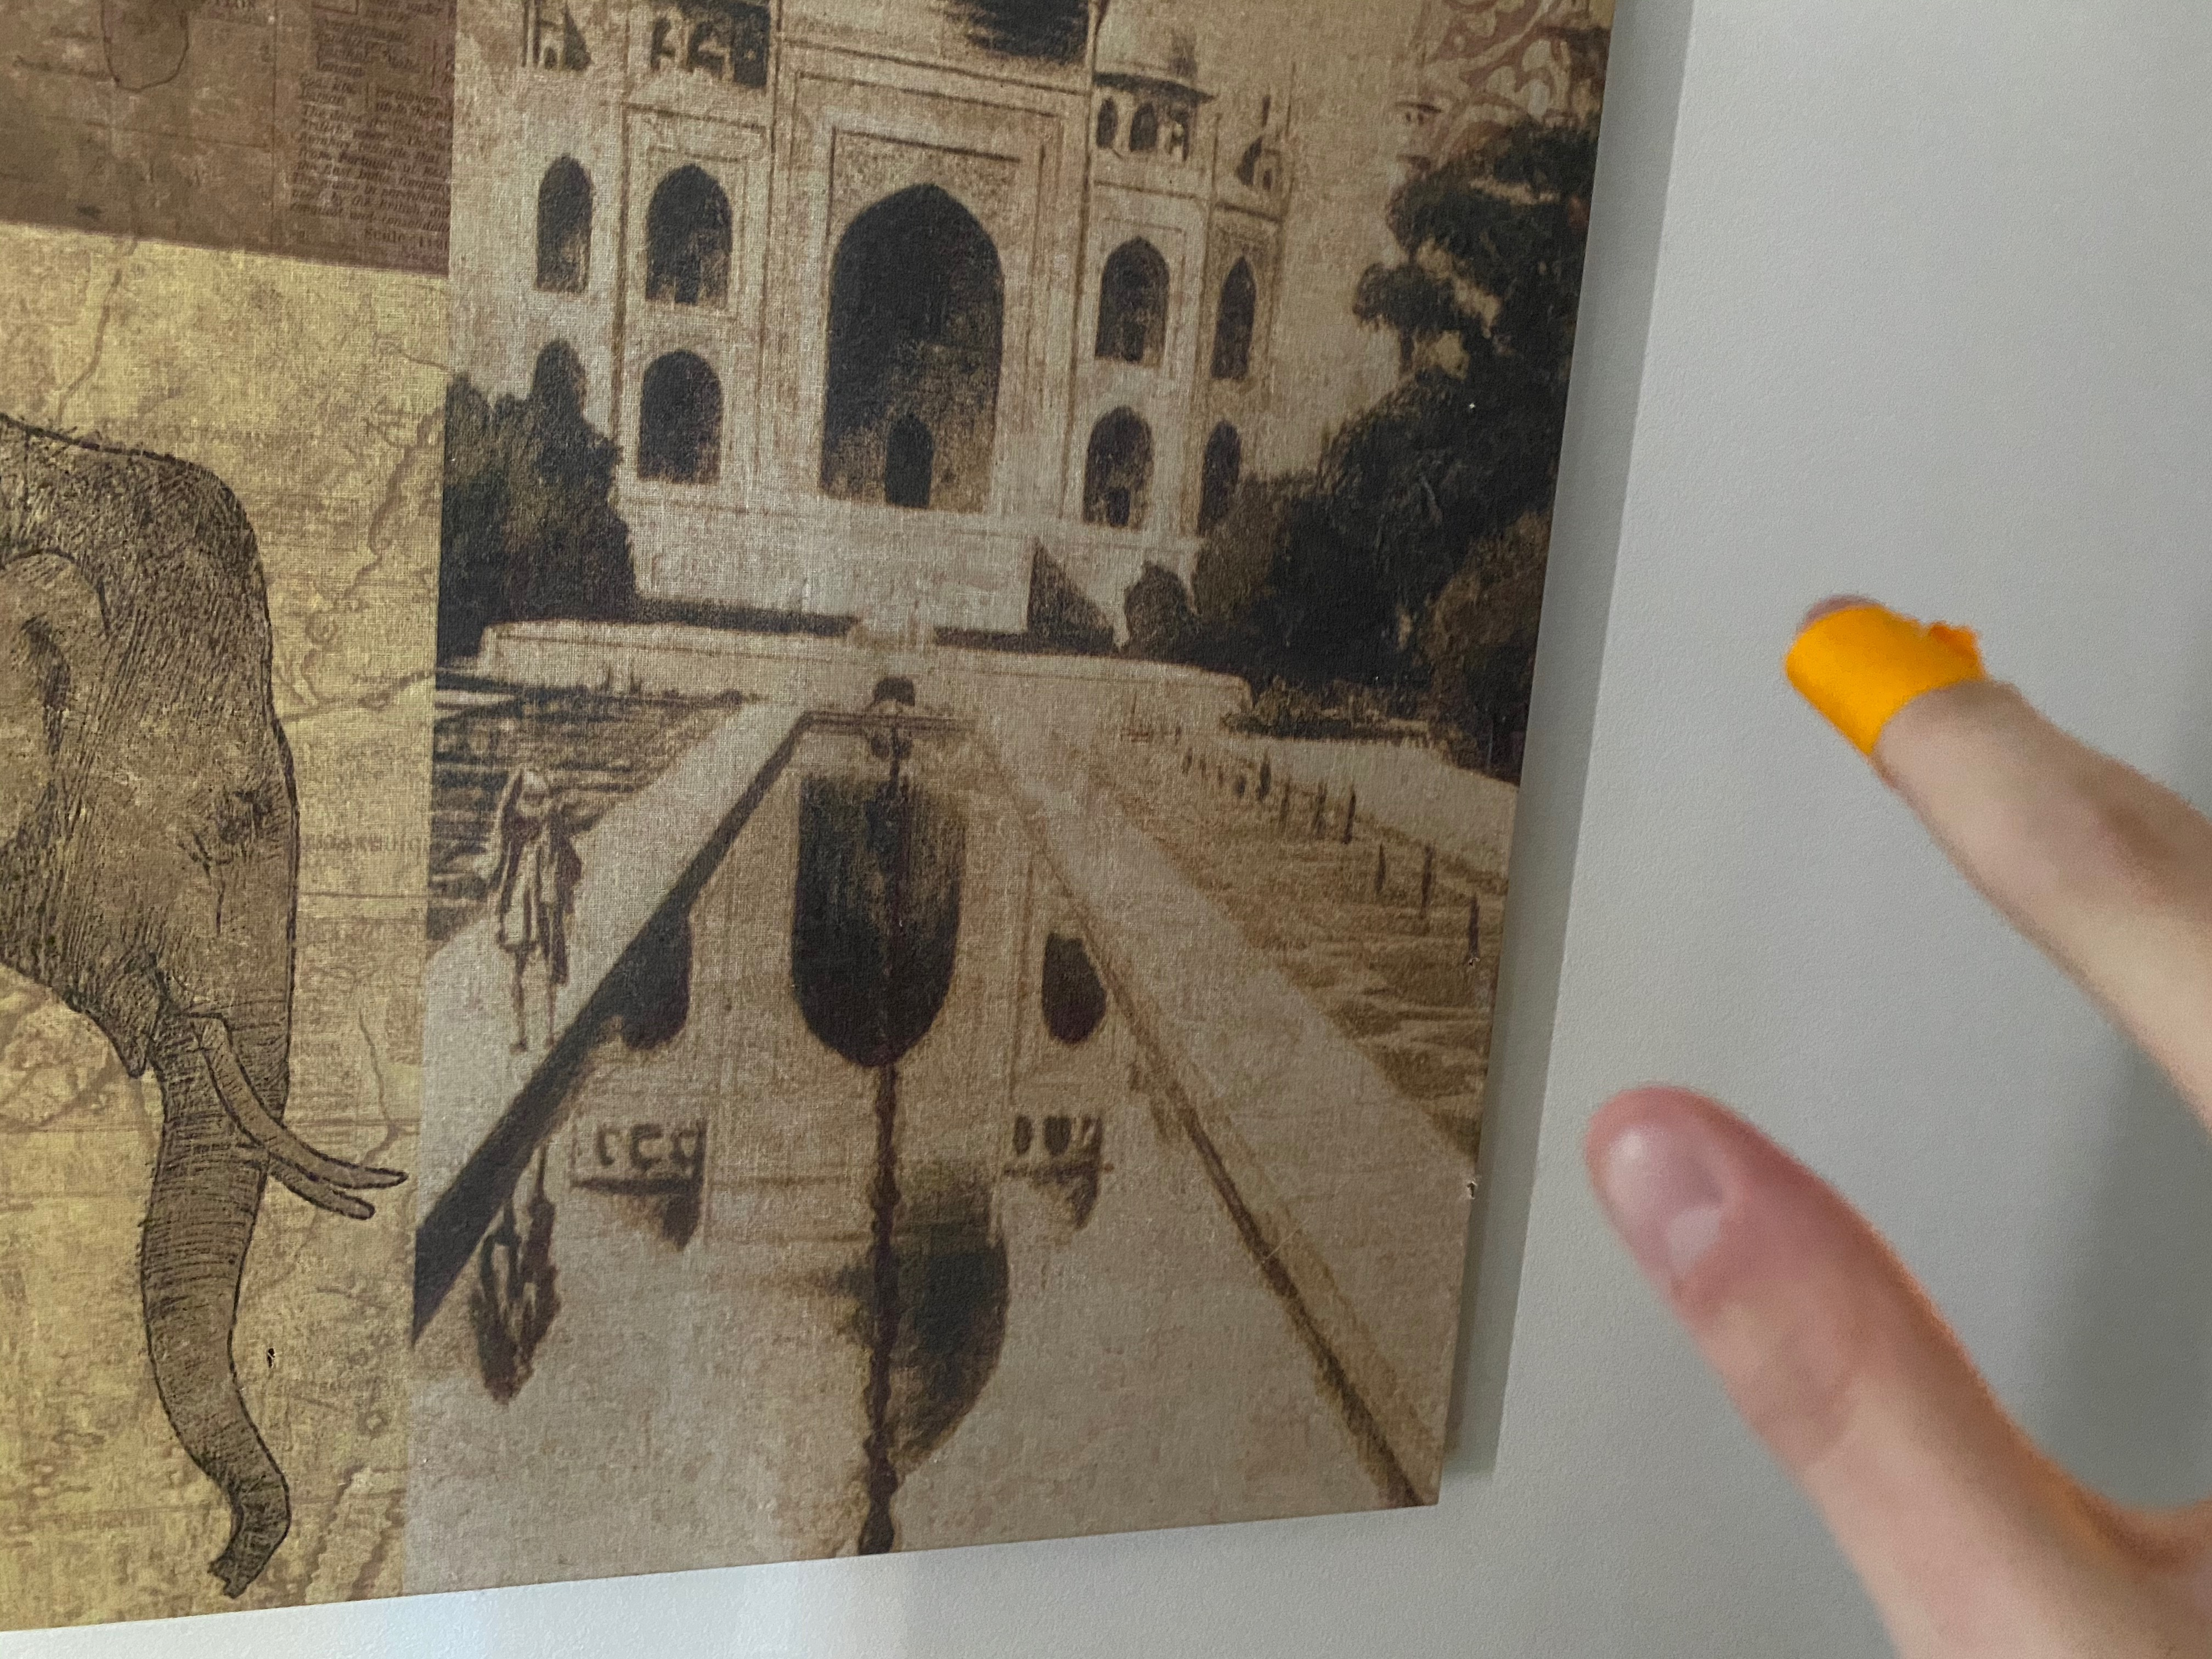fingertip: (1759, 566, 2008, 789)
